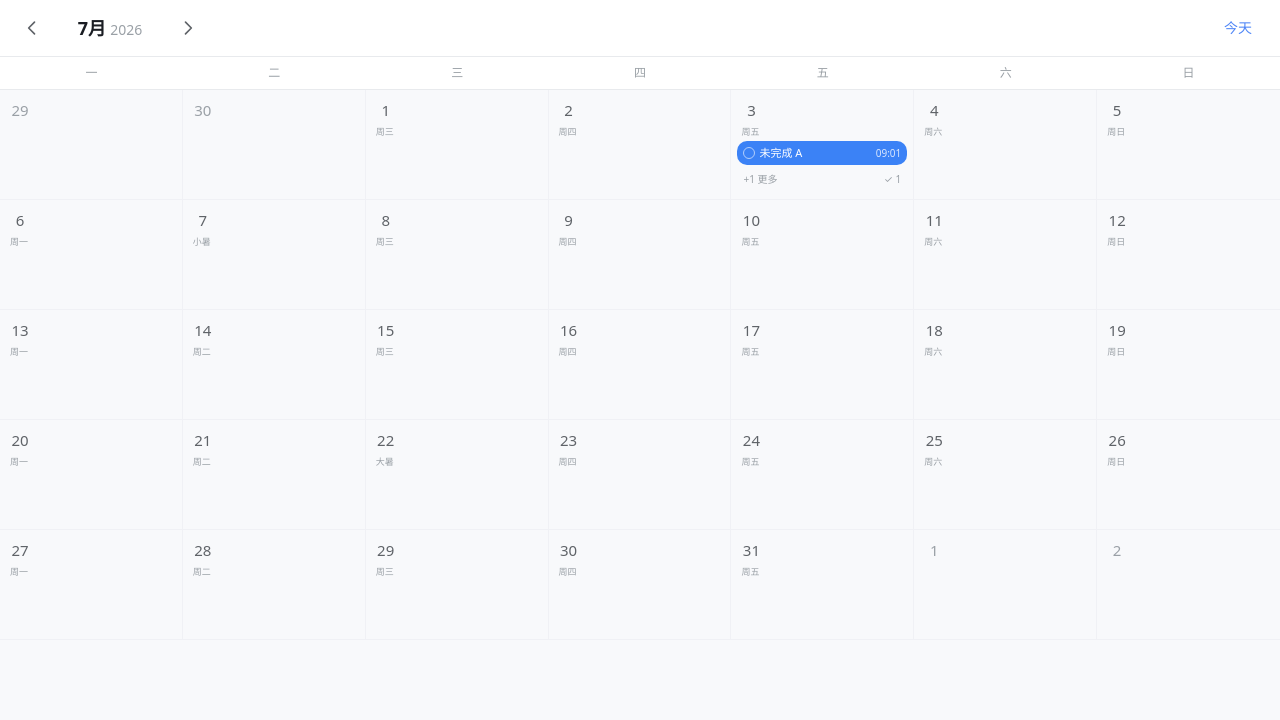
Test case: MonthView 任务显示优化 › 日期格优先显示未完成任务，已完成任务默认折叠为摘要
This screenshot has width=1280, height=720.
Check: the text "未完成 A" is shown, box [759, 145, 802, 160]
Check: the text "未完成 B" is not shown
Click the button with test id "month-completed-2026-07-03": (893, 179) [878, 169, 907, 189]
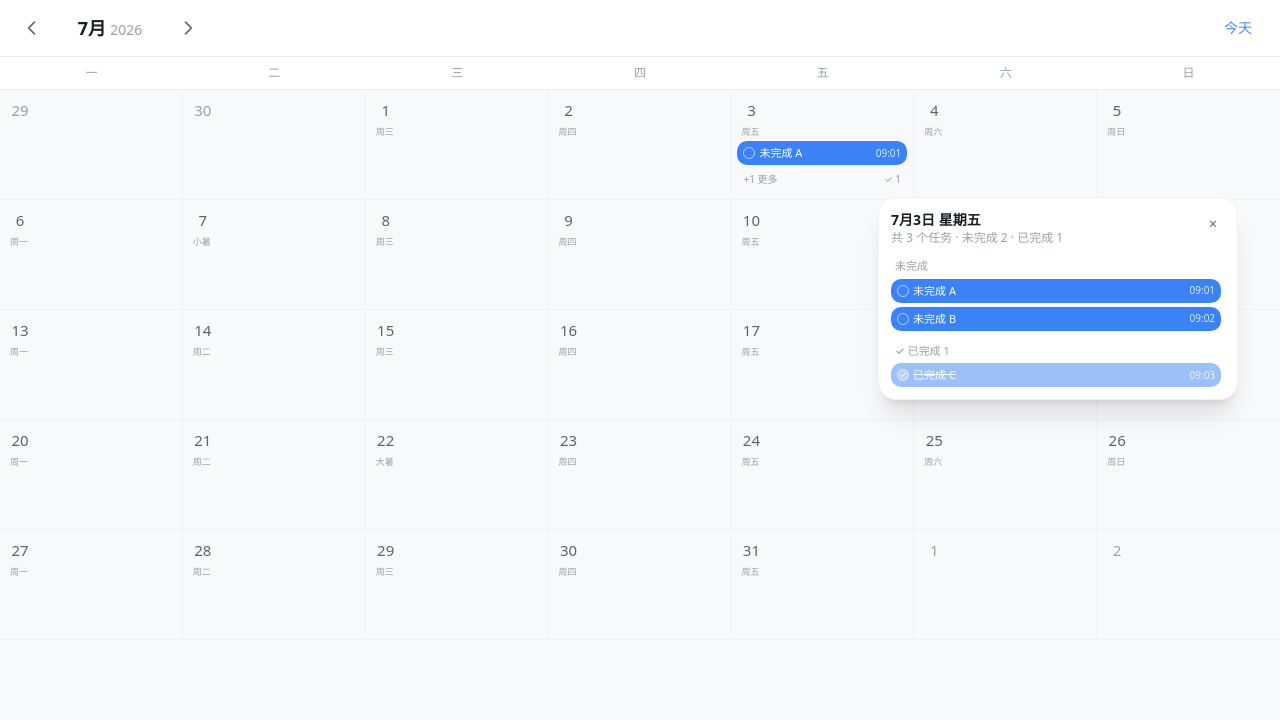
Check: the text "已完成 C" is shown, box [913, 367, 956, 382]
Check: the text "✓ 已完成 1" is shown, box [895, 343, 950, 358]
